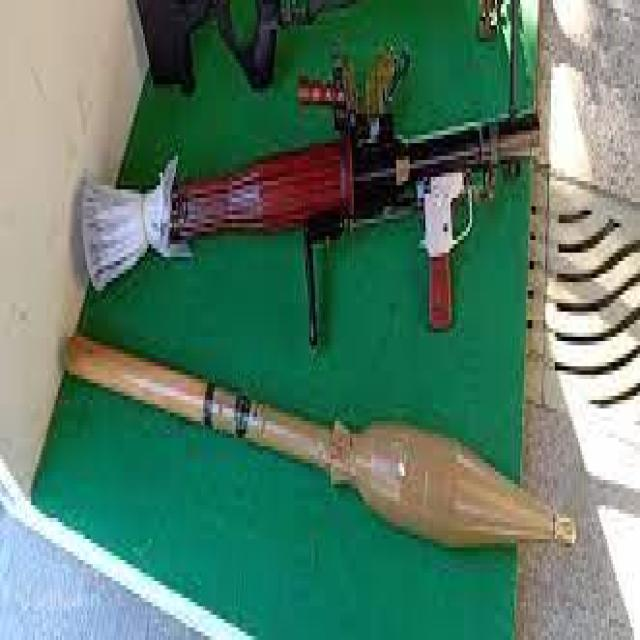Gun: (27, 89, 552, 318)
